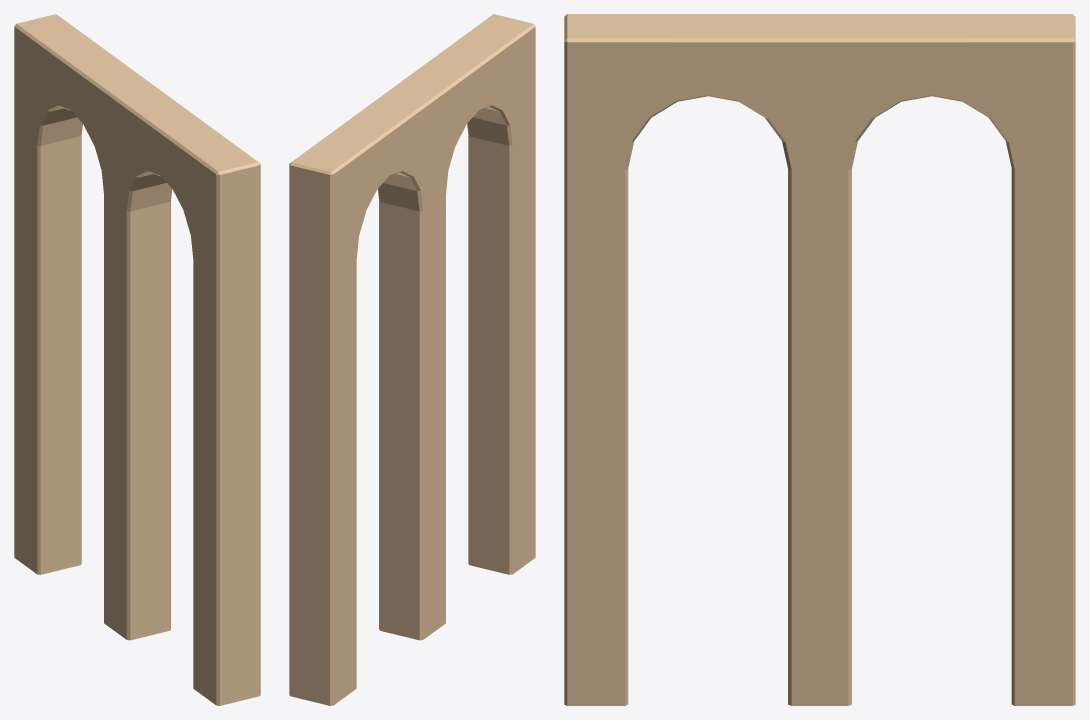
The model's file is arch-central.glb.
3 views of the same model, side by side, from view 1: azimuth 30°, elevation 25°; view 2: azimuth 150°, elevation 25°; view 3: azimuth 270°, elevation 25° (orthographic). The views are drawn at different scales.
Visible parts, largest first — view 1: Cube; view 2: Cube; view 3: Cube.
Part boxes in pixels (left/top/right/bottom): Cube: left=14, top=14, right=260, bottom=705; Cube: left=289, top=14, right=535, bottom=705; Cube: left=564, top=14, right=1075, bottom=705.
Bounding box in the file's own units: 0.2001 × 2.3 × 1.6.
